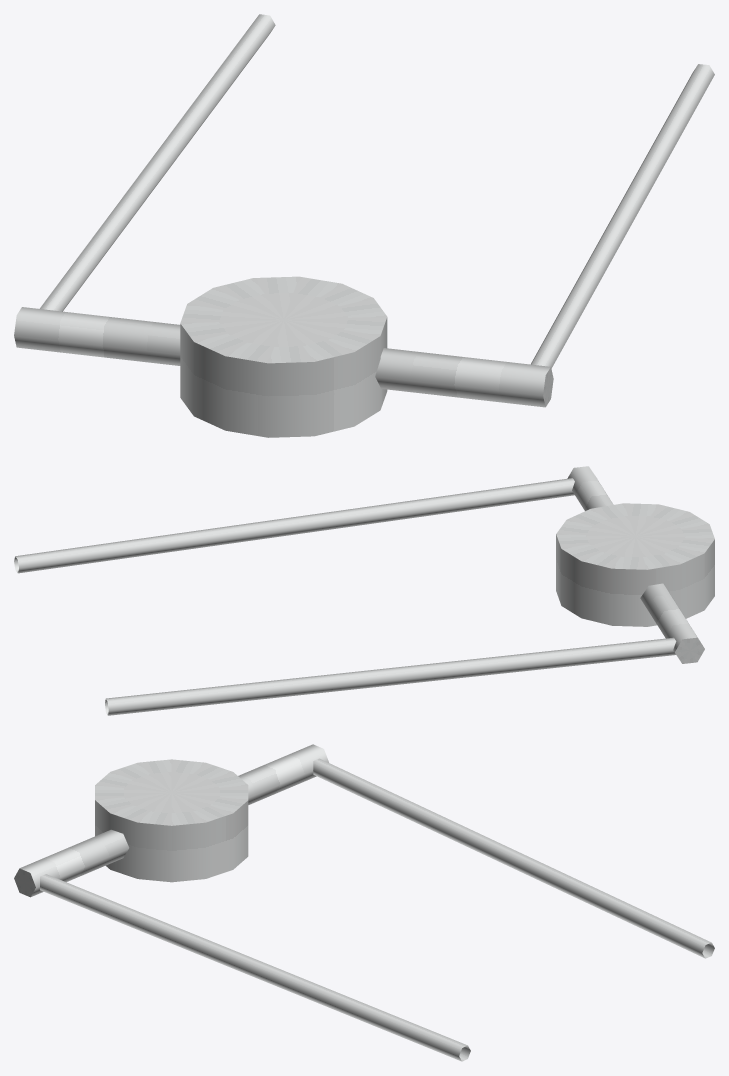
File: nycsignalarm_diagonal12_c0_thin.obj
3 renders of one model, top to bottom at view 1: azimuth 30°, elevation 25°; view 2: azimuth 150°, elevation 25°; view 3: azimuth 270°, elevation 25°, orthographic. The views are drawn at different scales.
Visible parts, largest first — view 1: nycsignalarm_diagonal12_c0_thin; view 2: nycsignalarm_diagonal12_c0_thin; view 3: nycsignalarm_diagonal12_c0_thin.
Part boxes in pixels (left/top/right/bottom): nycsignalarm_diagonal12_c0_thin: left=14, top=14, right=714, bottom=437; nycsignalarm_diagonal12_c0_thin: left=14, top=466, right=714, bottom=715; nycsignalarm_diagonal12_c0_thin: left=14, top=744, right=714, bottom=1061.
Bounding box in the file's own units: 2.53 × 0.225 × 2.53.
